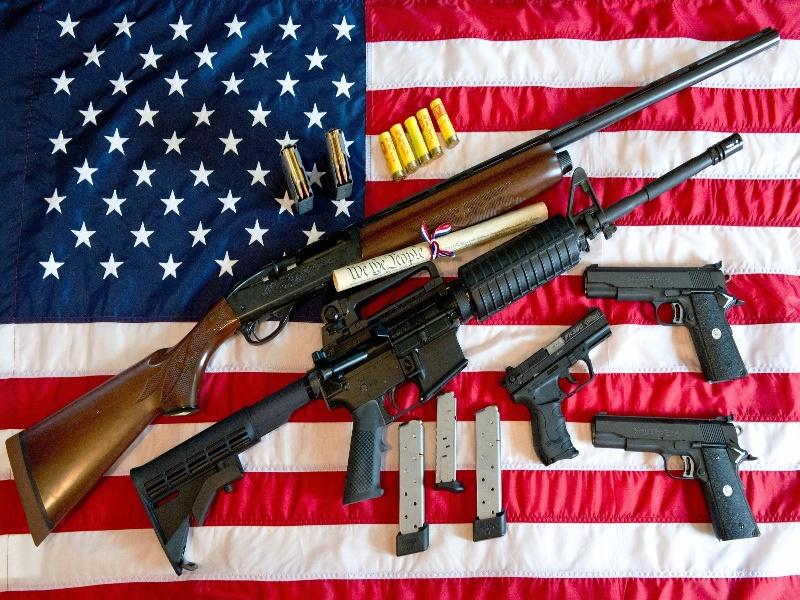gun: (585, 407, 761, 535), (583, 261, 749, 385), (492, 314, 613, 463)
